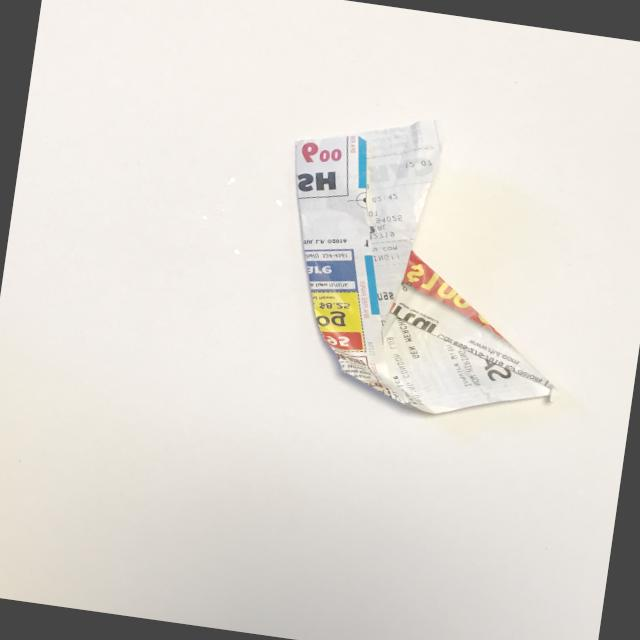Paper: (256, 94, 592, 434)
